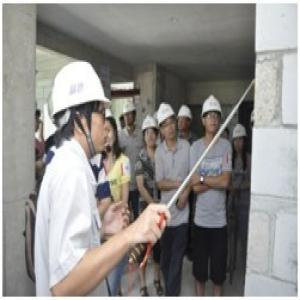white: (54, 60, 111, 159), (202, 95, 223, 138), (156, 102, 178, 142), (141, 115, 160, 150), (176, 104, 194, 134), (231, 122, 249, 152), (123, 100, 137, 130)
